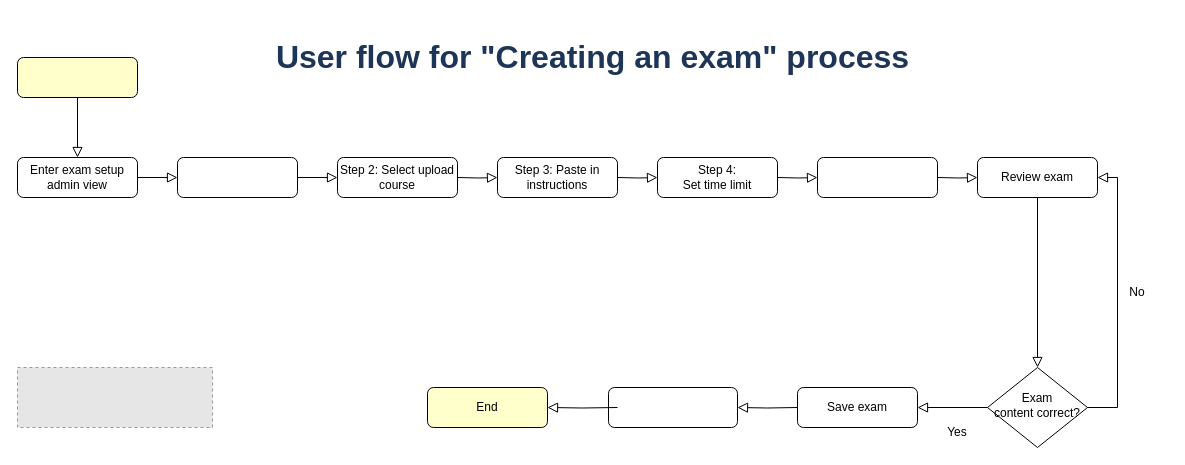
The diagram is 1185 pixels wide and 465 high, and some of its shapes have lost their labels. Grey dashed boxes stand in for pictures. The shapes that lost their labels are listed below. From the top down, each one's centre as x and y in pixels, then its label:
(x=77, y=77): Intention of uploading exam
(x=237, y=177): Step 1: Select course
(x=877, y=177): Step 5: Bulk upload multiple choice exam
(x=673, y=407): Select start and end dates for exam period
